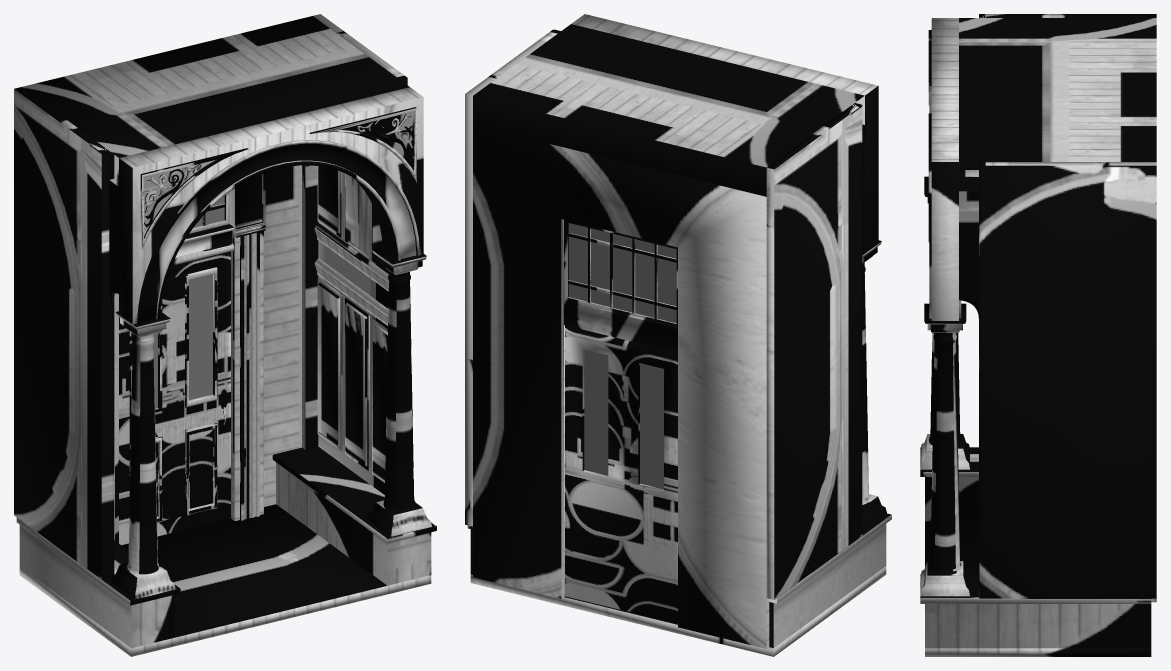
File: entrance-02.fbx
The picture shows the model from 3 angles, left to right: view 1: azimuth 30°, elevation 25°; view 2: azimuth 150°, elevation 25°; view 3: azimuth 270°, elevation 25°; orthographic projection.
Parts seen in each view (by area): view 1: SM_Entrances02; view 2: SM_Entrances02; view 3: SM_Entrances02.
Boxes of the visible parts, left/top/right/bottom form: SM_Entrances02: left=14, top=14, right=436, bottom=656; SM_Entrances02: left=465, top=14, right=891, bottom=656; SM_Entrances02: left=920, top=14, right=1156, bottom=656.
Bounding box in the file's own units: 262 × 396 × 172.
3 materials, 2 textured.
